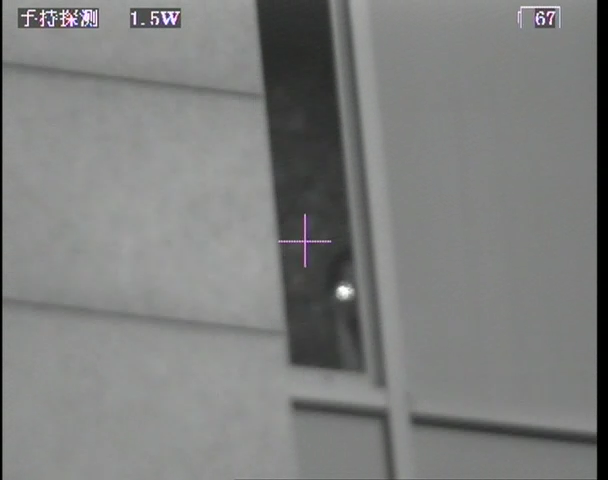my: (334, 280, 357, 301)
